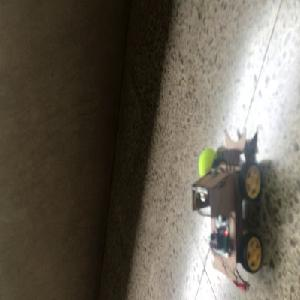Ball: (198, 149, 216, 174)
Robot: (191, 128, 264, 284)
